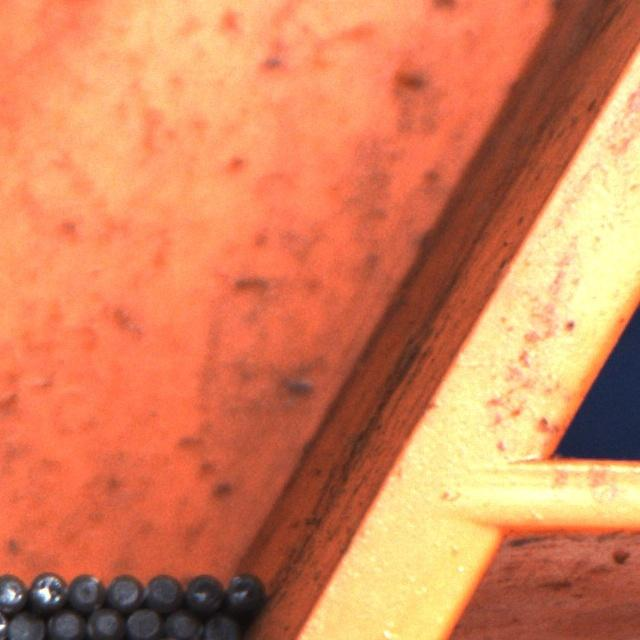tool: (182, 571, 222, 612), (222, 570, 262, 610), (29, 568, 67, 608), (143, 568, 181, 608), (104, 570, 141, 608), (66, 570, 103, 608), (124, 604, 162, 640), (84, 606, 122, 640), (47, 607, 84, 640), (162, 608, 200, 640), (6, 610, 44, 640), (201, 612, 240, 640), (0, 571, 26, 610)
